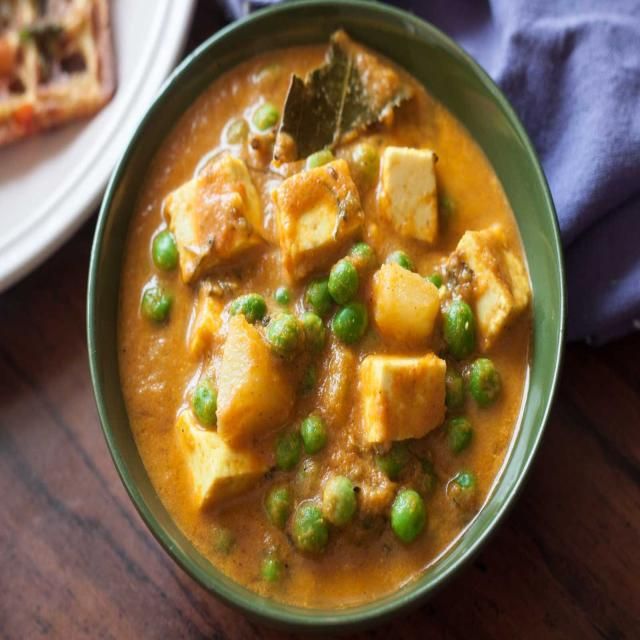paneer_curry: (107, 21, 547, 592)
